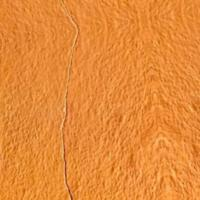crack: (29, 48, 87, 199)
